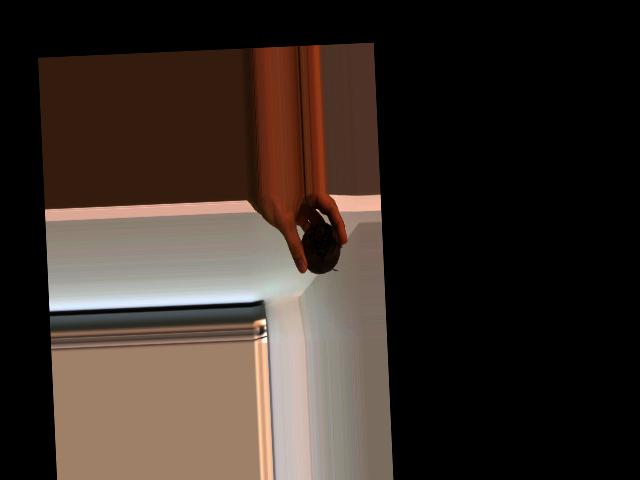beet: (298, 192, 343, 275)
